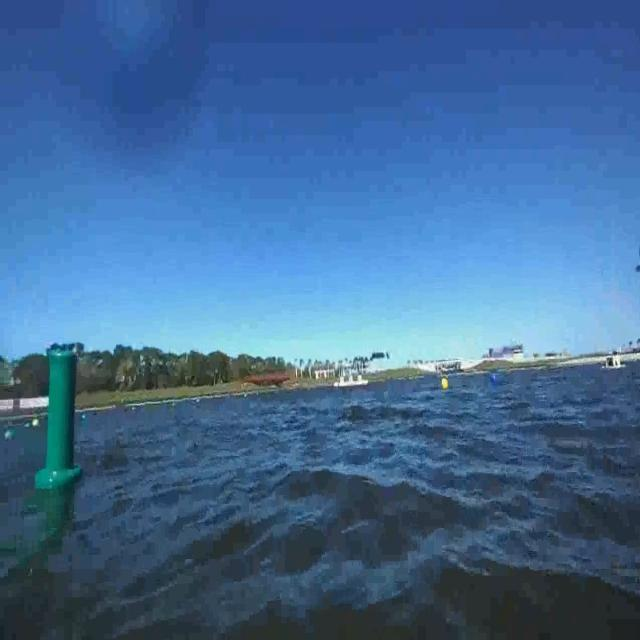green-buoy: (6, 429, 14, 439)
green-column-buoy: (40, 350, 84, 489)
yellow-buoy: (442, 376, 451, 392)
